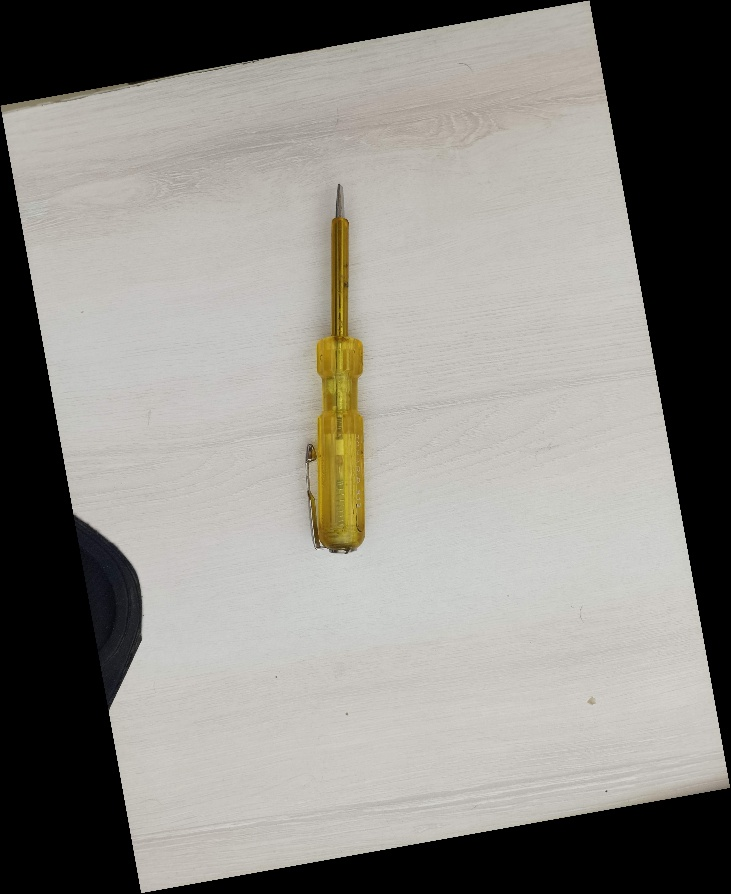screwdriver: (300, 174, 368, 560)
